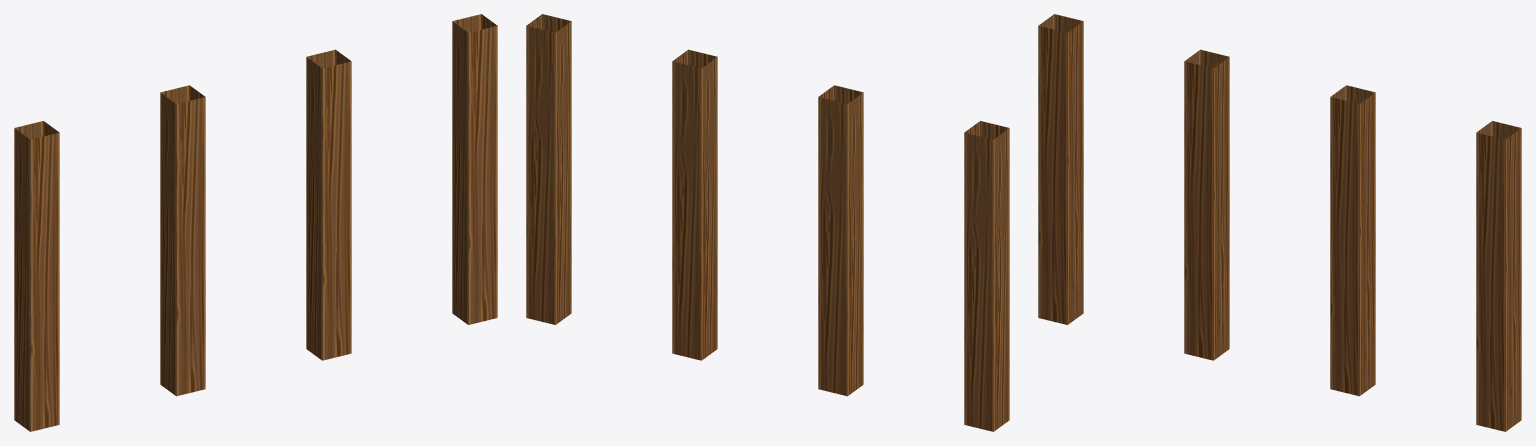
3 renders of one model, left to right at view 1: azimuth 30°, elevation 25°; view 2: azimuth 150°, elevation 25°; view 3: azimuth 330°, elevation 25°, orthographic.
Parts seen in each view (by area): view 1: Cube.1529; view 2: Cube.1529; view 3: Cube.1529.
Boxes of the visible parts, left/top/right/bottom form: Cube.1529: left=14, top=14, right=497, bottom=431; Cube.1529: left=526, top=14, right=1009, bottom=431; Cube.1529: left=1038, top=14, right=1521, bottom=431.
Bounding box in the file's own units: 242 × 144 × 14.36.
Materials: 1 (1 with a texture image).
